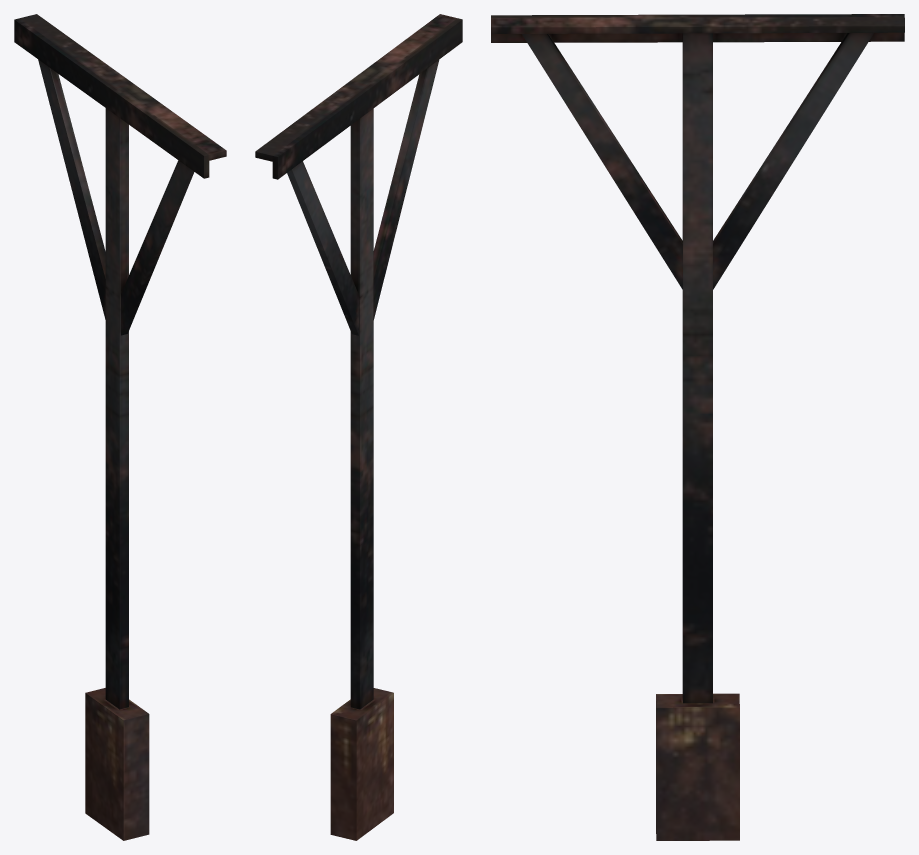
Rendered from ClothesHangerStand.FBX.
3 renders of one model, left to right at view 1: azimuth 30°, elevation 25°; view 2: azimuth 150°, elevation 25°; view 3: azimuth 270°, elevation 25°, orthographic. The views are drawn at different scales.
Visible parts, largest first — view 1: ClothesHangerStand; view 2: ClothesHangerStand; view 3: ClothesHangerStand.
Part boxes in pixels (<box>): ClothesHangerStand: <box>14,14,226,840</box>; ClothesHangerStand: <box>255,14,462,840</box>; ClothesHangerStand: <box>491,14,904,840</box>.
Bounding box in the file's own units: 7.26 × 177 × 81.55.
